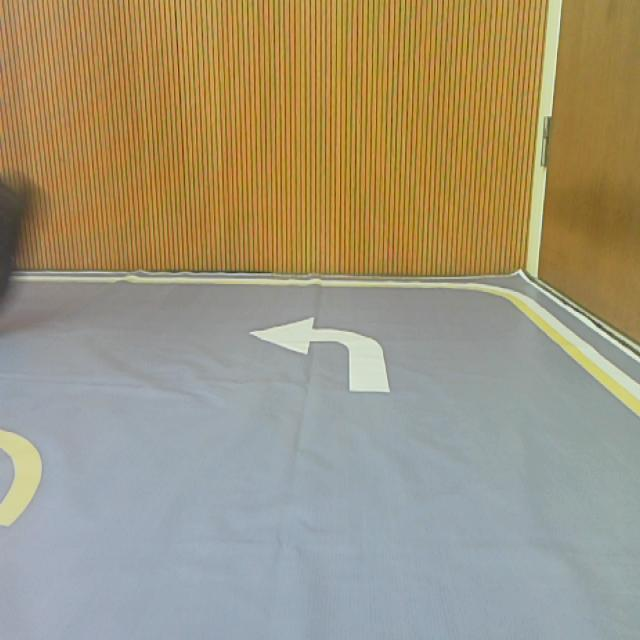left_lane: (0, 464, 37, 540)
right_lane: (509, 298, 640, 415)
